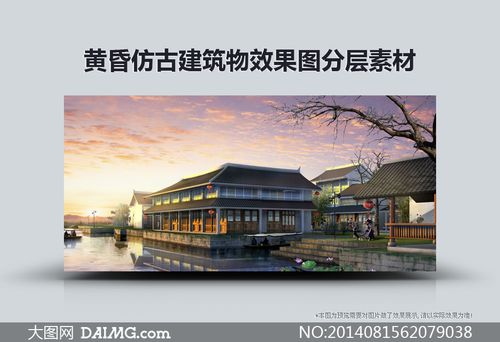buildings: (129, 162, 321, 246)
